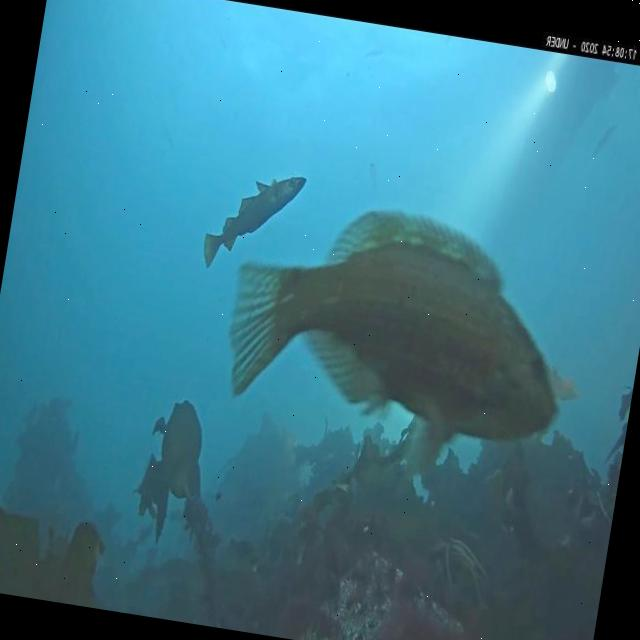fish: (212, 185, 586, 489), (199, 162, 308, 284), (592, 121, 618, 163), (366, 160, 379, 190)
